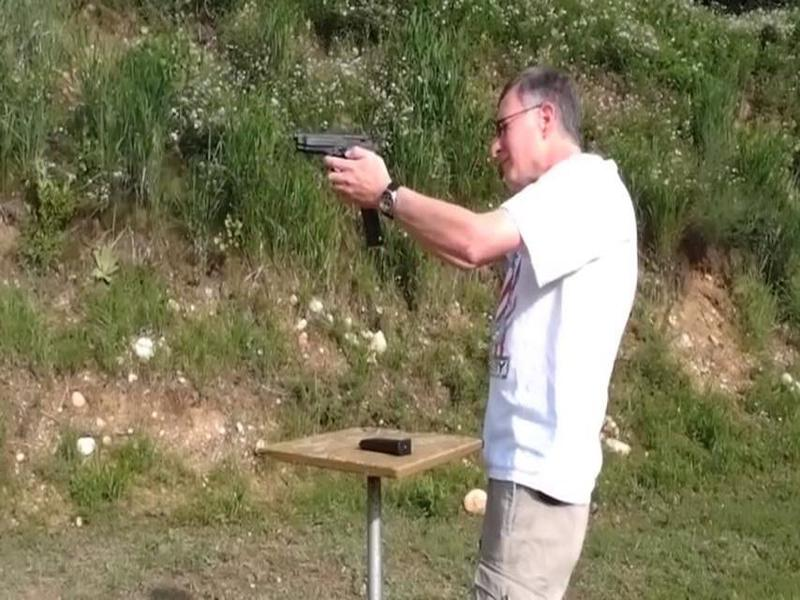Pistola: (276, 108, 387, 215)
